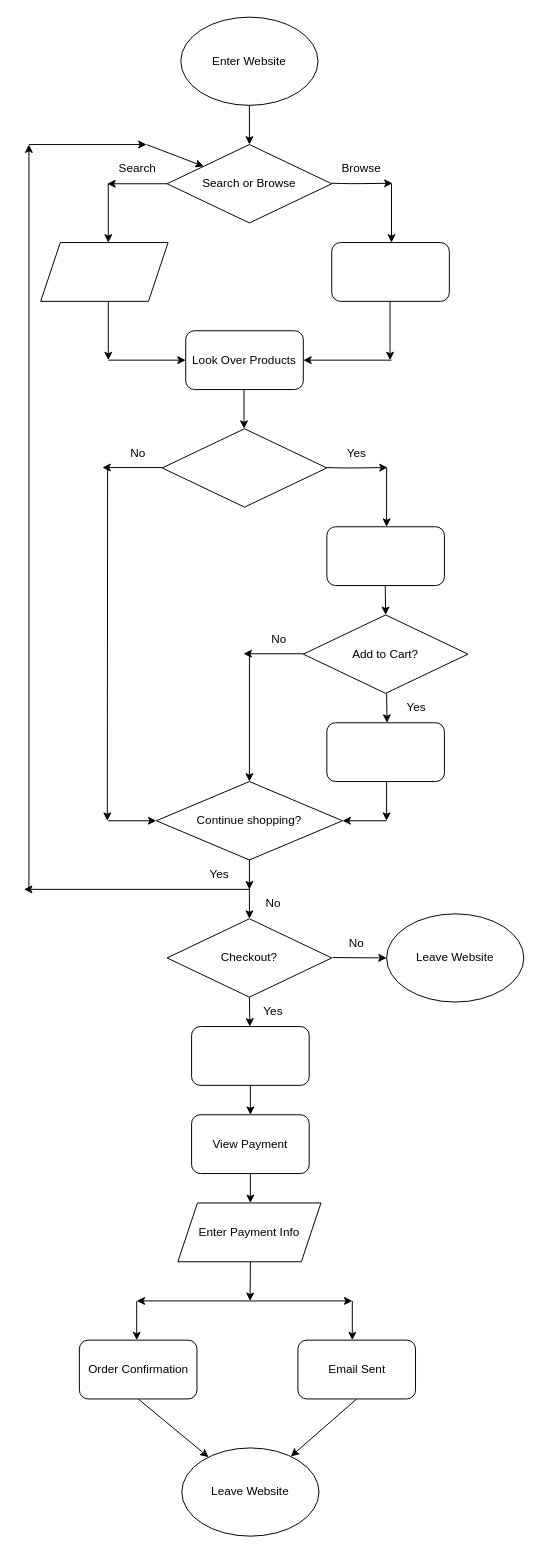
This 541x1553 diagram has some shape labels left out. Here are the shapes that lost their labels. From the top down, the box of each, then its label:
(40, 242, 168, 301): Enter Search
(331, 242, 449, 301): Browse Home Page
(161, 428, 327, 507): View a Product?
(326, 526, 444, 586): Product Page
(326, 722, 444, 782): Added to Cart Confirmation
(191, 1026, 309, 1085): View Cart
